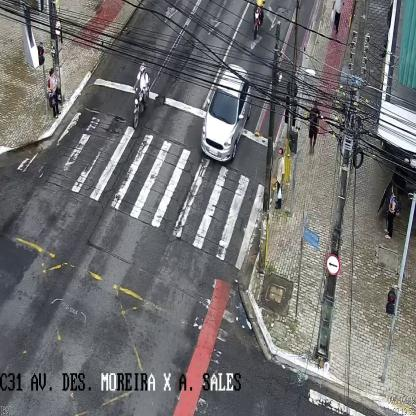car: (200, 64, 252, 162)
motorbike: (132, 62, 150, 129), (253, 1, 265, 39)
person: (45, 67, 62, 119), (308, 100, 320, 154), (330, 1, 346, 41), (275, 148, 284, 210)
